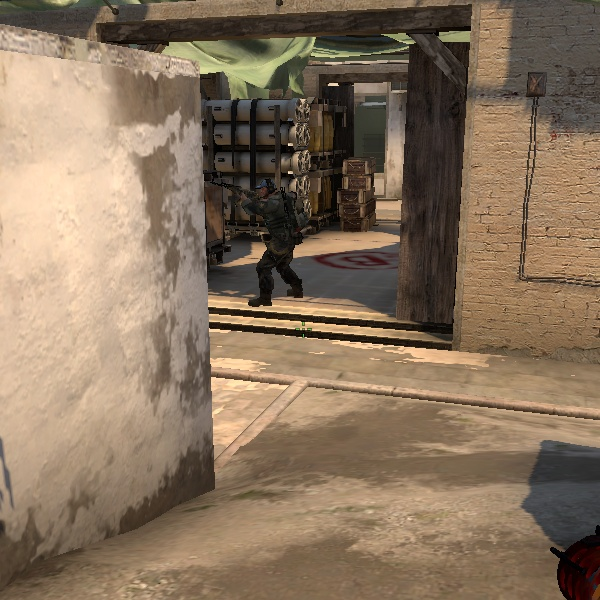ct_body: (224, 172, 313, 313)
ct_head: (252, 175, 282, 202)
